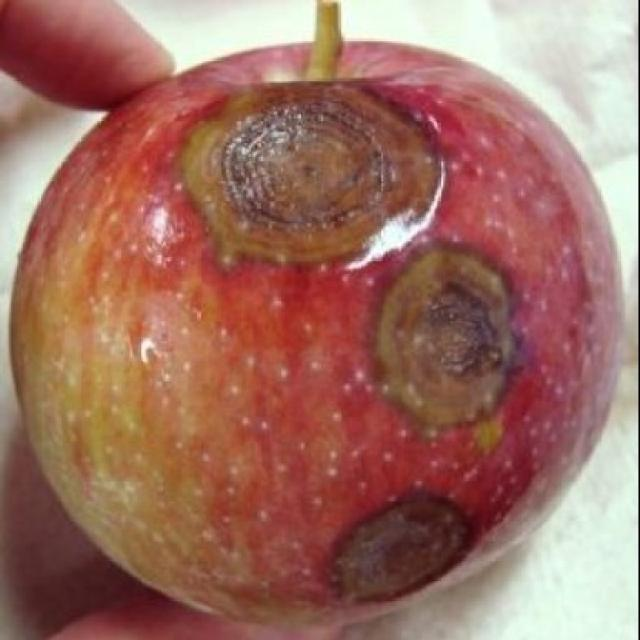Rotten Apple: (8, 39, 624, 623)
